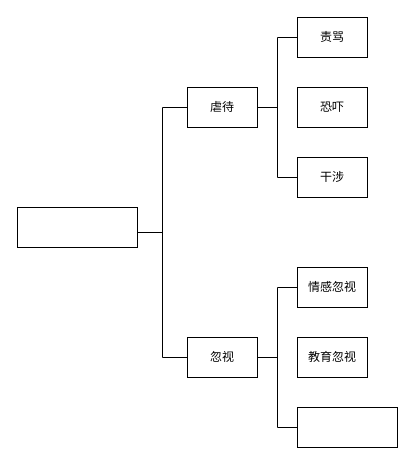
Image size: 415x465. Some labels were removed from this diagram. Each missing label, with the centre of its shape:
儿童期虐待与忽视: point (77, 227)
身体/监督忽视: point (347, 427)
